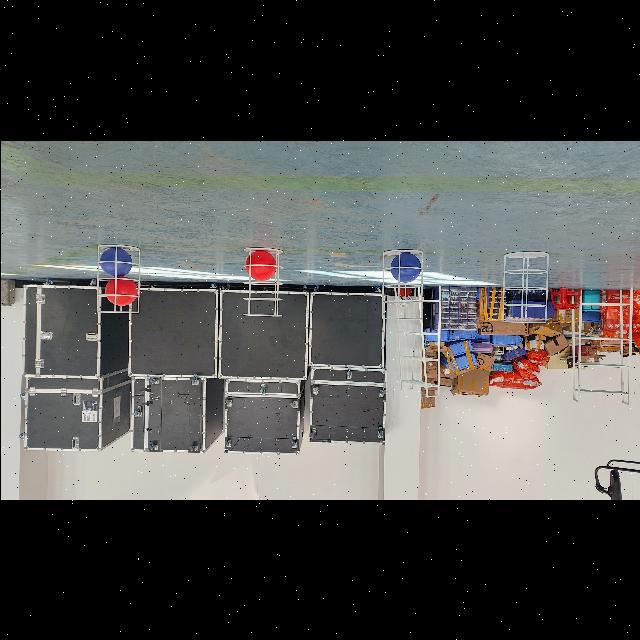B: (388, 252, 422, 282), (98, 247, 132, 276)
R: (244, 250, 276, 278), (105, 278, 137, 306)
S: (495, 248, 551, 324), (91, 241, 143, 315), (376, 246, 426, 322), (238, 246, 286, 320)
